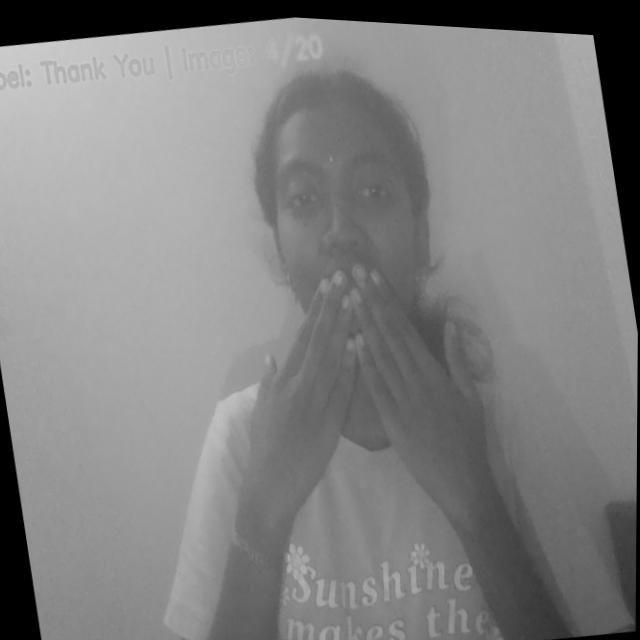Thank You: (221, 238, 509, 539)
